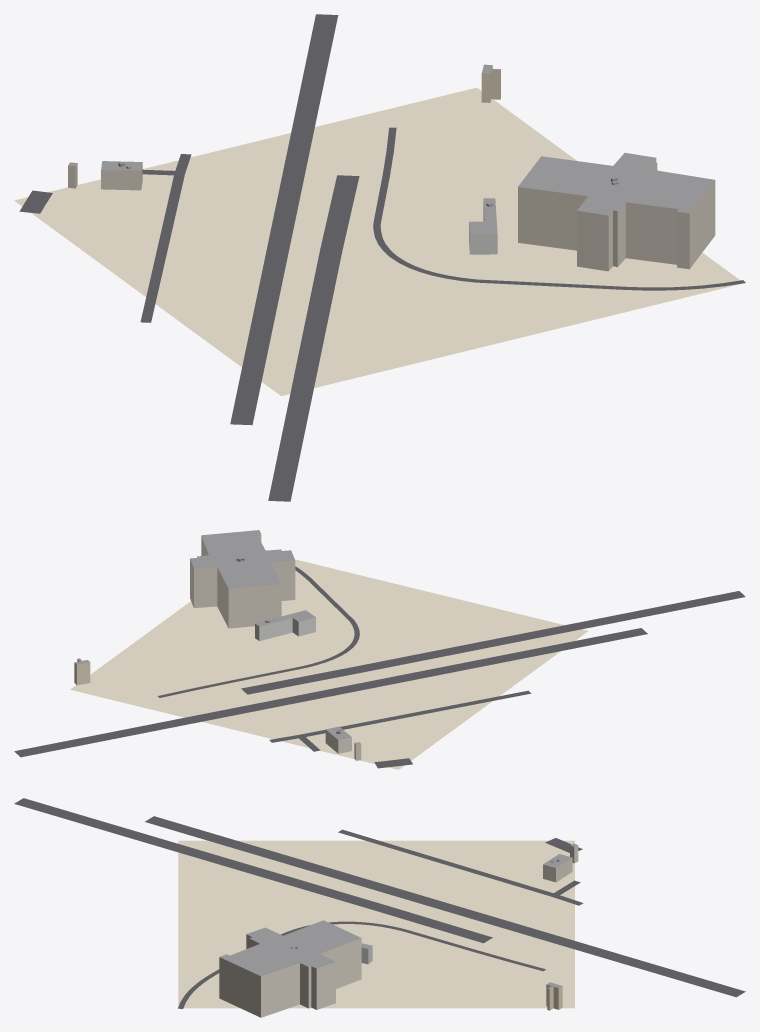
Rendered from tile_4_6_far.glb.
3 views of the same model, one above another, from view 1: azimuth 30°, elevation 25°; view 2: azimuth 150°, elevation 25°; view 3: azimuth 270°, elevation 25° (orthographic). The views are drawn at different scales.
Visible parts, largest first — view 1: nature_ground, roads_asphalt, buildings_concrete_warm, buildings_roof; view 2: nature_ground, roads_asphalt, buildings_concrete_warm, buildings_roof, buildings_concrete_light; view 3: nature_ground, roads_asphalt, buildings_concrete_warm, buildings_roof, buildings_sandstone.
Boxes of the visible parts, box(x1,y1,x2,y2) form: nature_ground: box(14, 87, 741, 395); roads_asphalt: box(19, 14, 745, 501); buildings_concrete_warm: box(68, 158, 715, 271); buildings_roof: box(68, 64, 714, 233); nature_ground: box(70, 559, 587, 769); roads_asphalt: box(14, 566, 745, 768); buildings_concrete_warm: box(190, 534, 361, 760); buildings_roof: box(75, 530, 360, 744); buildings_concrete_light: box(255, 617, 315, 640); nature_ground: box(178, 840, 574, 1008); roads_asphalt: box(14, 798, 745, 1008); buildings_concrete_warm: box(219, 845, 578, 1017); buildings_roof: box(220, 843, 577, 988); buildings_sandstone: box(546, 984, 562, 1010).
Bounding box in the file's own units: 328 × 30.58 × 461.
